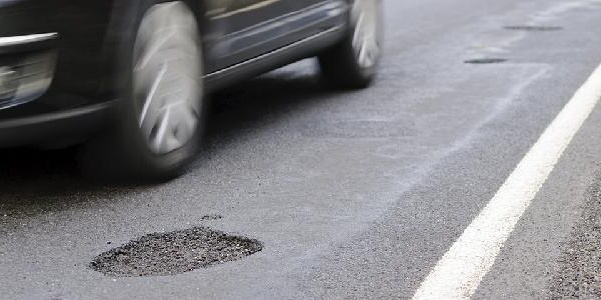pothole: (85, 225, 267, 280)
